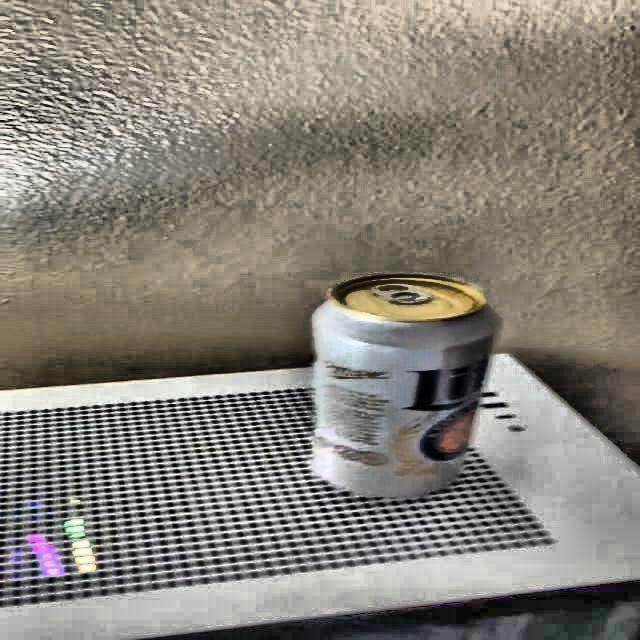can: (306, 259, 501, 507)
